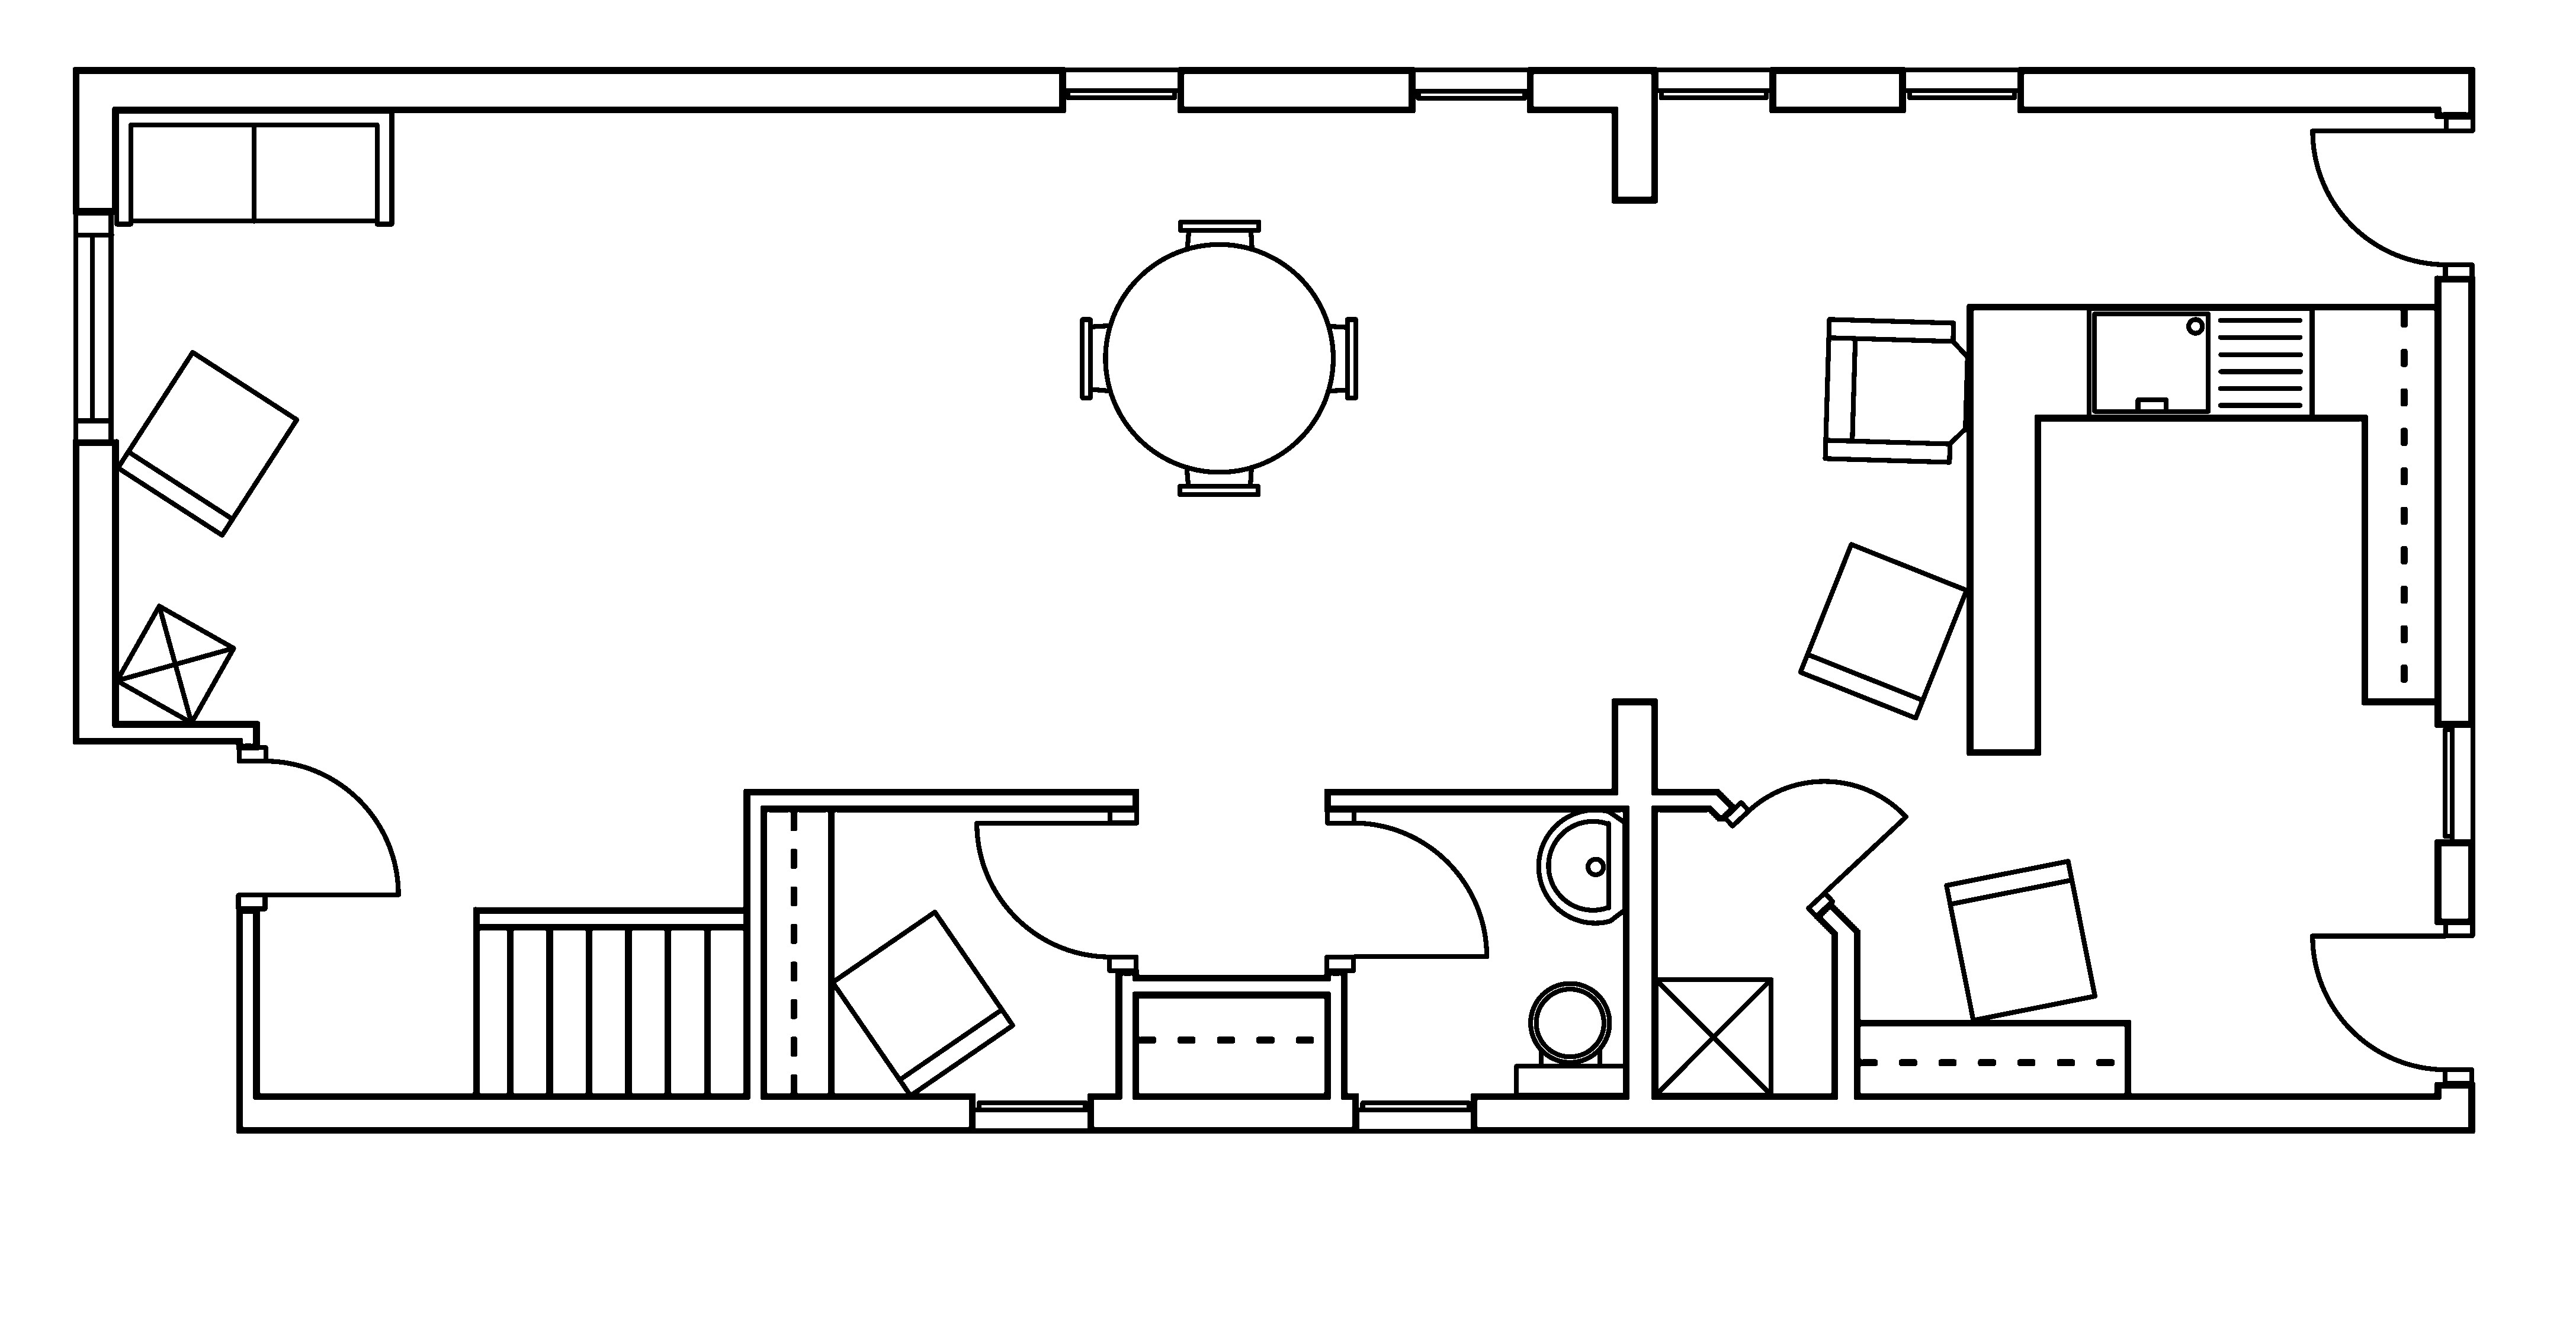armchair: (1821, 316, 1971, 464)
coffee_table: (113, 602, 237, 725), (1651, 976, 1774, 1097)
large_sink: (1513, 981, 1628, 1097)
large_sofa: (113, 108, 395, 227)
round_table: (1078, 219, 1359, 496)
sink: (2085, 305, 2314, 421)
small_sink: (1535, 808, 1628, 925)
small_sofa: (829, 908, 1016, 1099), (114, 348, 299, 538), (1796, 540, 1969, 720), (1942, 858, 2097, 1023)
